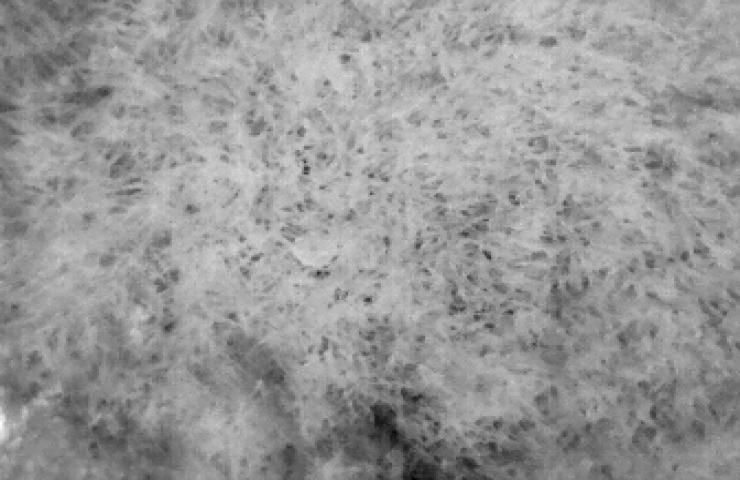landmines: (290, 226, 343, 270)
